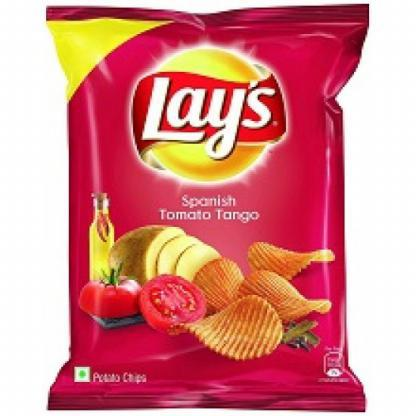tangy_tomato: (46, 3, 371, 410)
